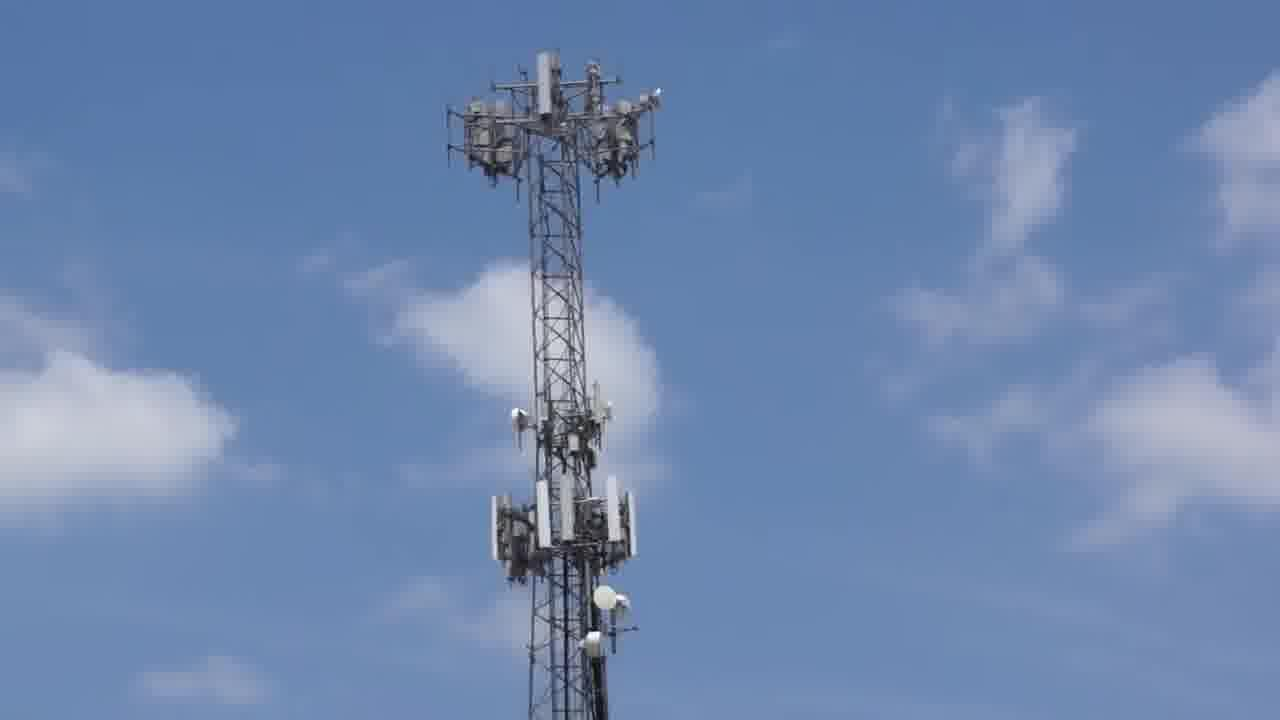Microwave Antenna: (509, 405, 534, 440), (582, 629, 613, 657), (594, 399, 621, 431), (595, 585, 624, 614), (639, 85, 666, 116), (612, 597, 641, 615)
antenna: (484, 490, 515, 578), (618, 481, 643, 569), (527, 476, 554, 557), (596, 478, 620, 563), (553, 473, 578, 549), (530, 52, 550, 127)
